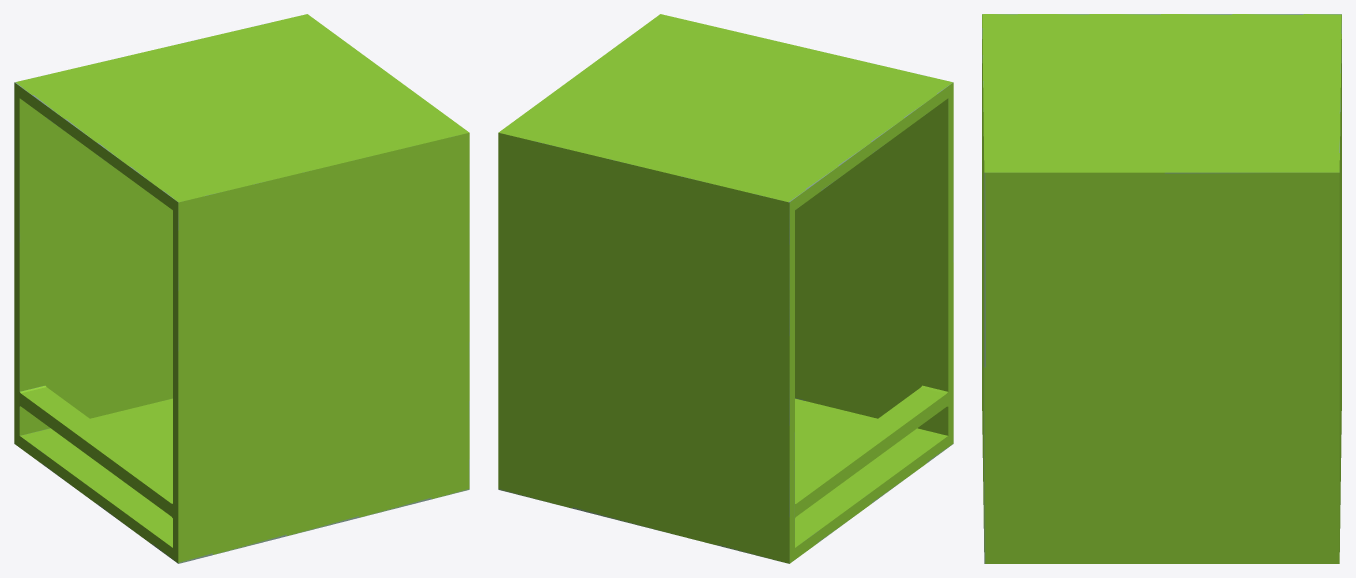
The model's file is RepisaAlta.fbx.
3 renders of one model, left to right at view 1: azimuth 30°, elevation 25°; view 2: azimuth 150°, elevation 25°; view 3: azimuth 270°, elevation 25°, orthographic. The views are drawn at different scales.
Visible parts, largest first — view 1: RepisaAlta(mapeado)(textur.); view 2: RepisaAlta(mapeado)(textur.); view 3: RepisaAlta(mapeado)(textur.).
Boxes of the visible parts, bbox=[...] form: RepisaAlta(mapeado)(textur.): bbox=[14, 14, 469, 563]; RepisaAlta(mapeado)(textur.): bbox=[498, 14, 953, 563]; RepisaAlta(mapeado)(textur.): bbox=[982, 14, 1341, 563].
Size of the model in its own units: 183 by 217 by 178.
